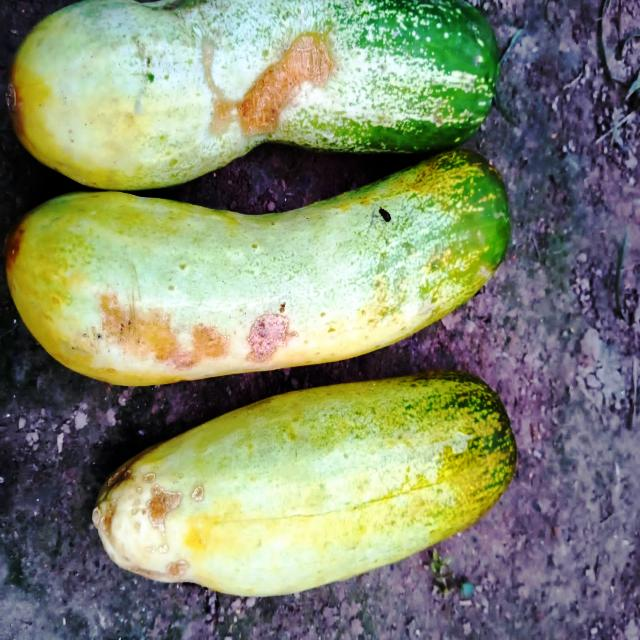Belly-Rot: (200, 27, 338, 139), (102, 459, 209, 586), (96, 282, 230, 372), (246, 309, 292, 361)
